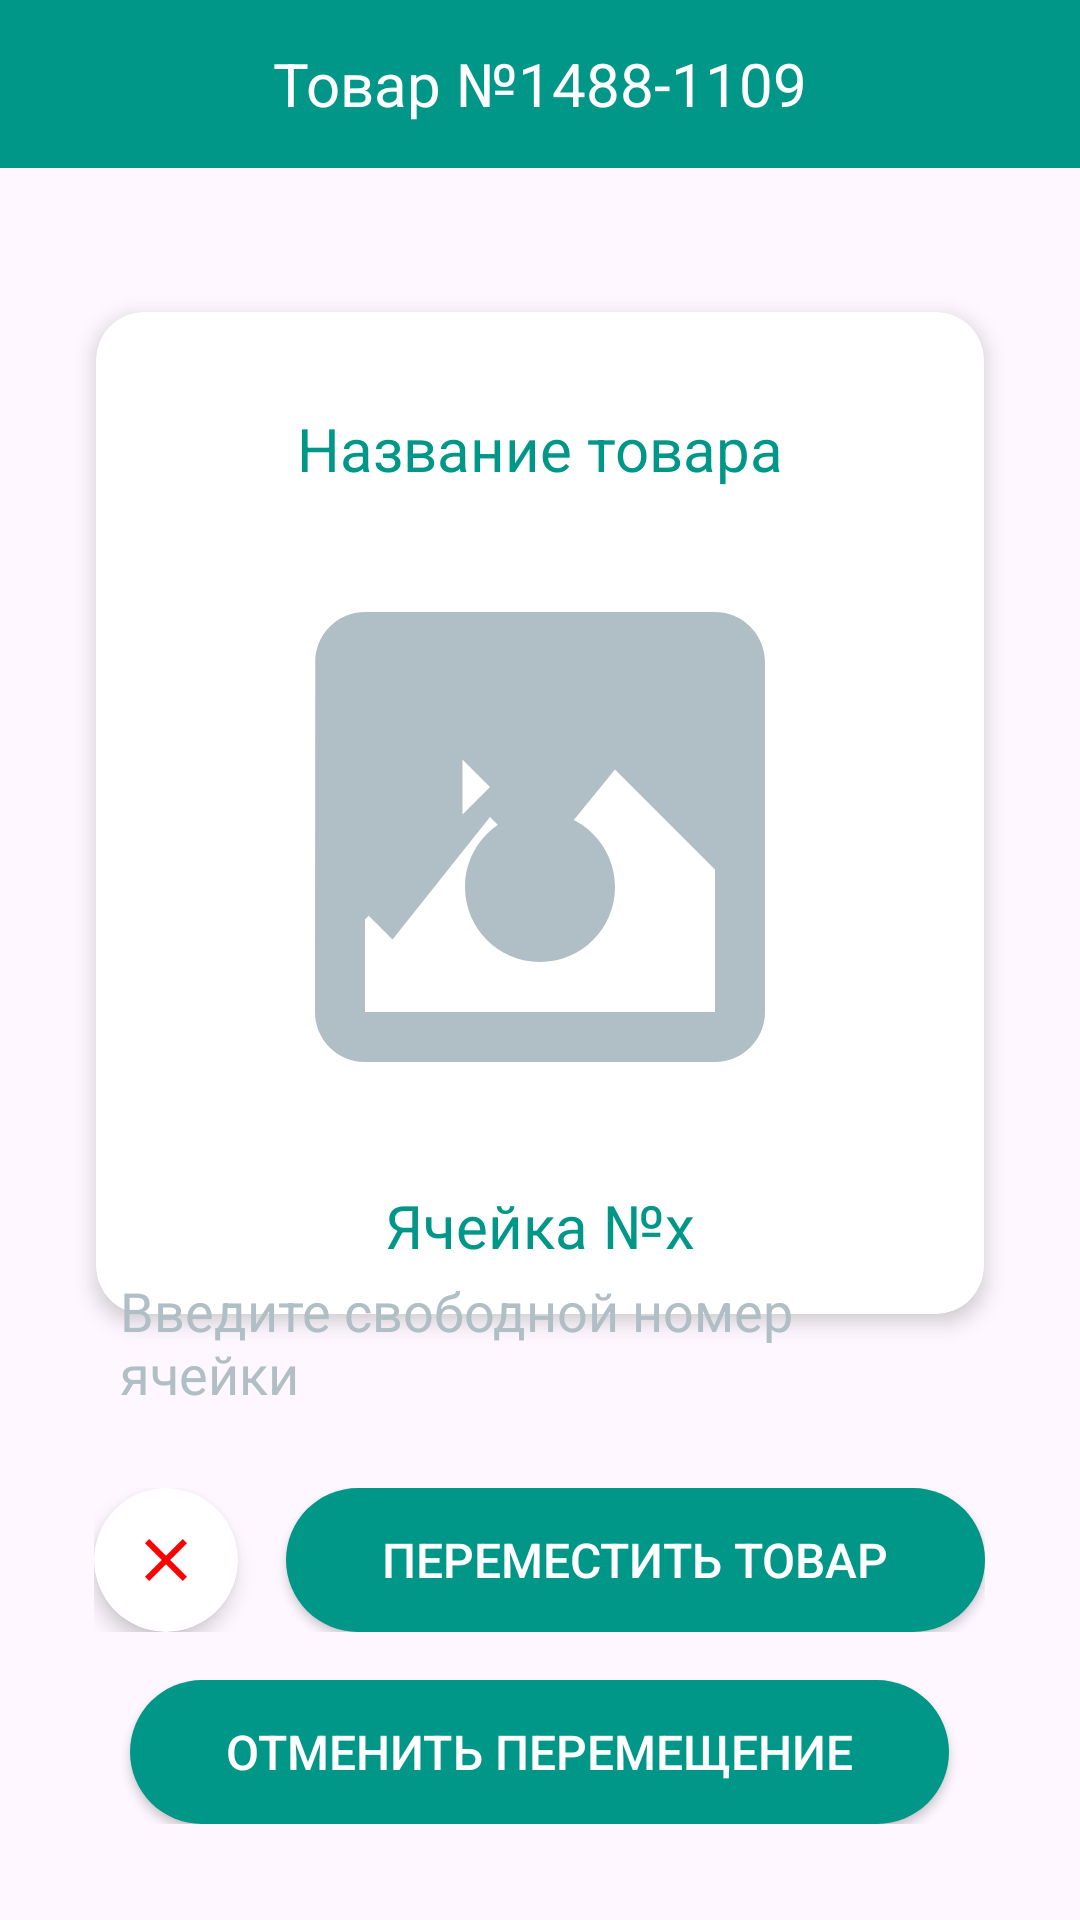

Where to tap for icons on this 1080 × 1920 app screen, as (x=x, y=y):
Red Cross: (x=166, y=1560)
